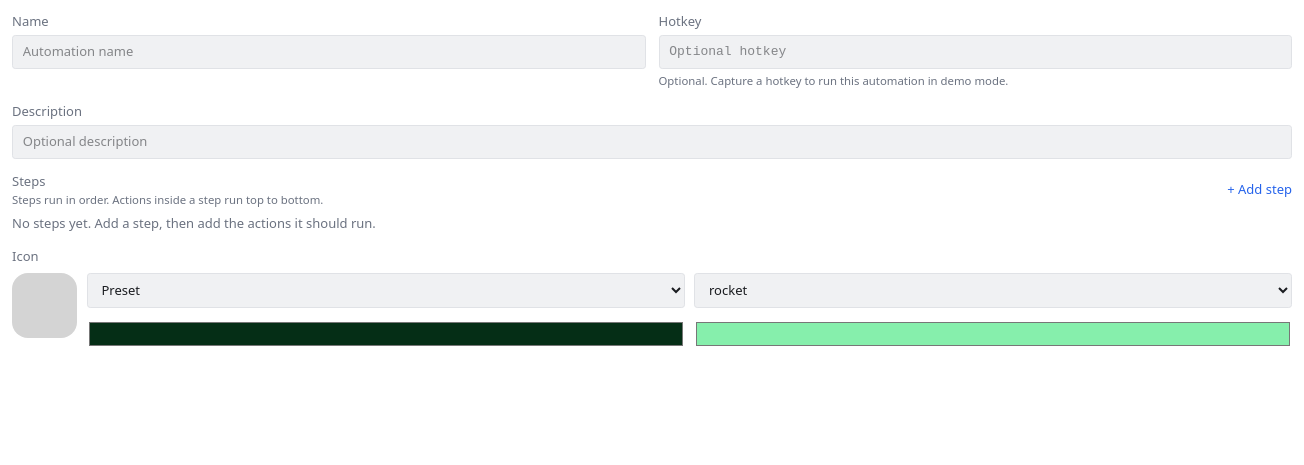
Scenario: ScriptForm steps › uses step and action wording
This screenshot has width=1304, height=465.
Expected: the text with test id "automation-steps-help" shows "run in order", 12,192 -> 323,206
Expected: the text with test id "no-contributions" shows "No steps yet", 12,214 -> 376,232
Click the button with test id "add-contribution-group": (1260, 190) 1227,176 -> 1292,204
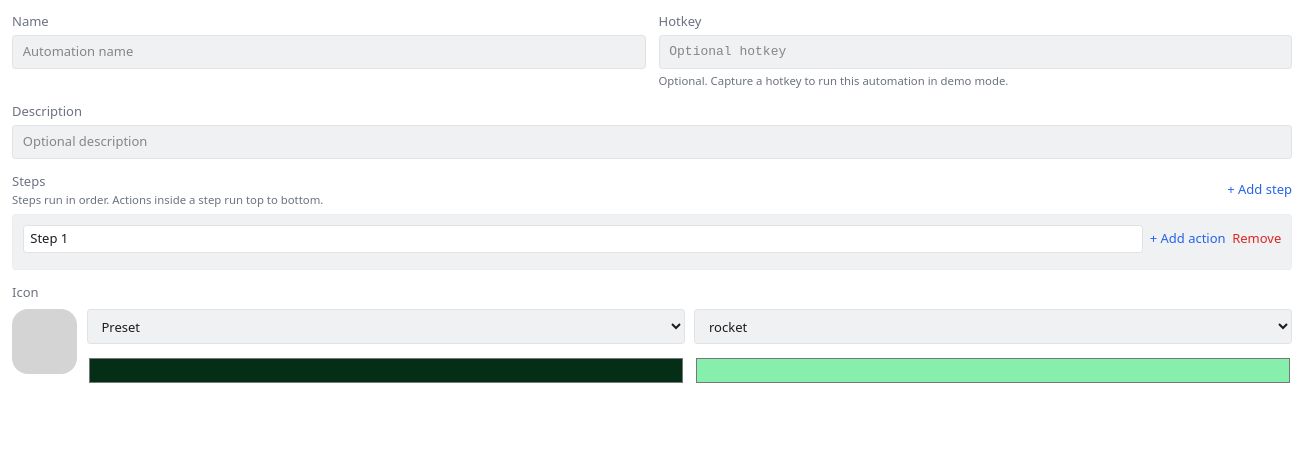
Expected: the field with test id "contribution-group-title-0" holds "Step 1", 23,225 -> 1143,253
Expected: the button with test id "add-open-site-0" shows "Add action", 1150,225 -> 1226,253
Click the button with test id "add-contribution-group": (1260, 190) 1227,176 -> 1292,204
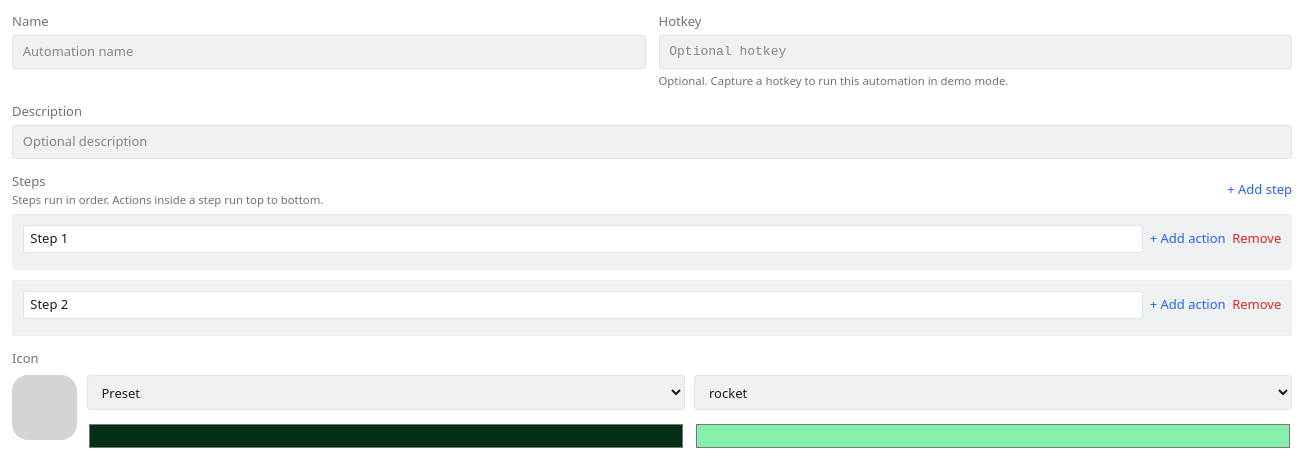
Expected: the field named "Step 2 name" holds "Step 2", 23,291 -> 1143,319
